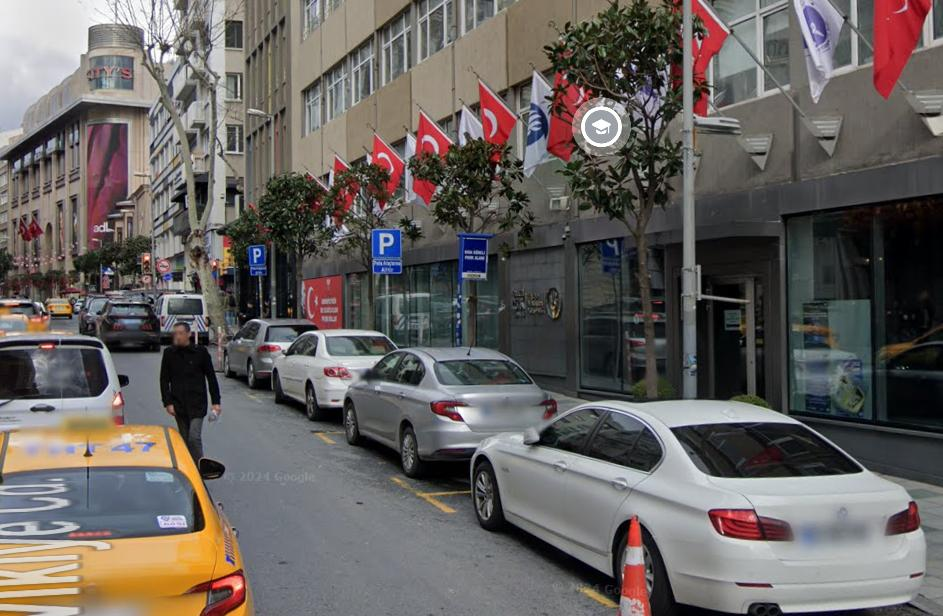park: (372, 231, 400, 262), (248, 246, 267, 264)
